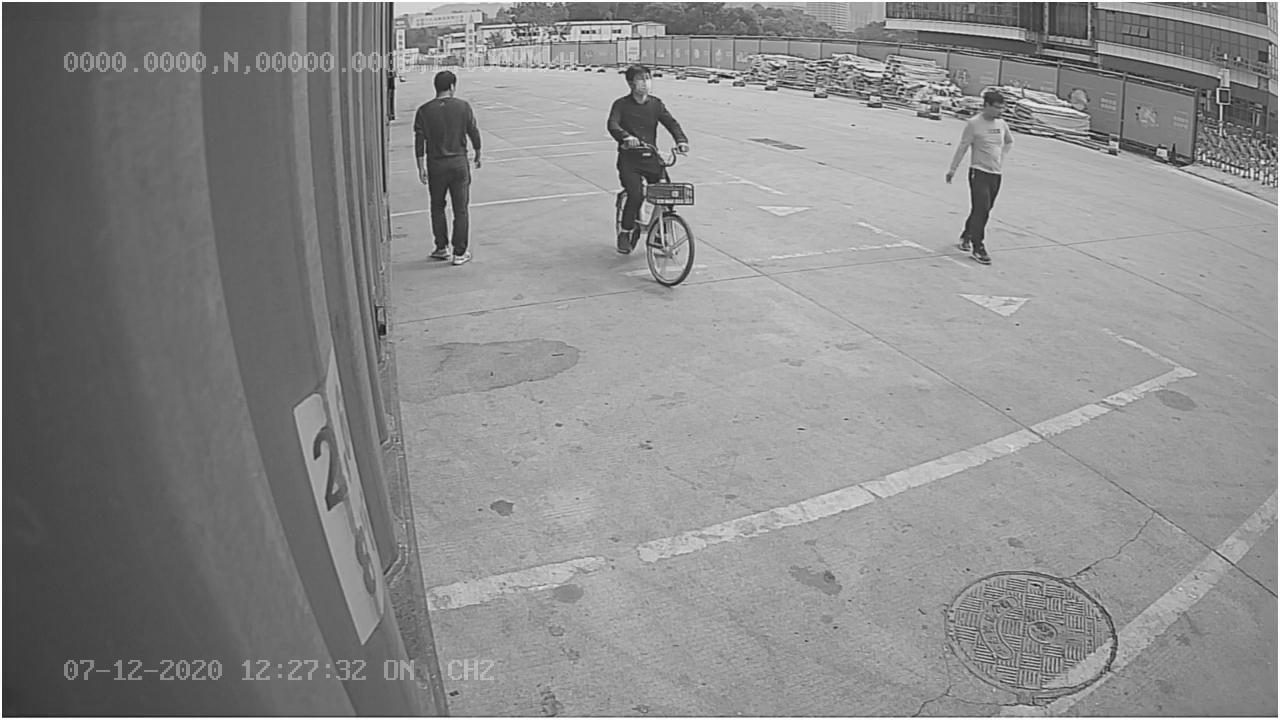person: (409, 65, 486, 269)
